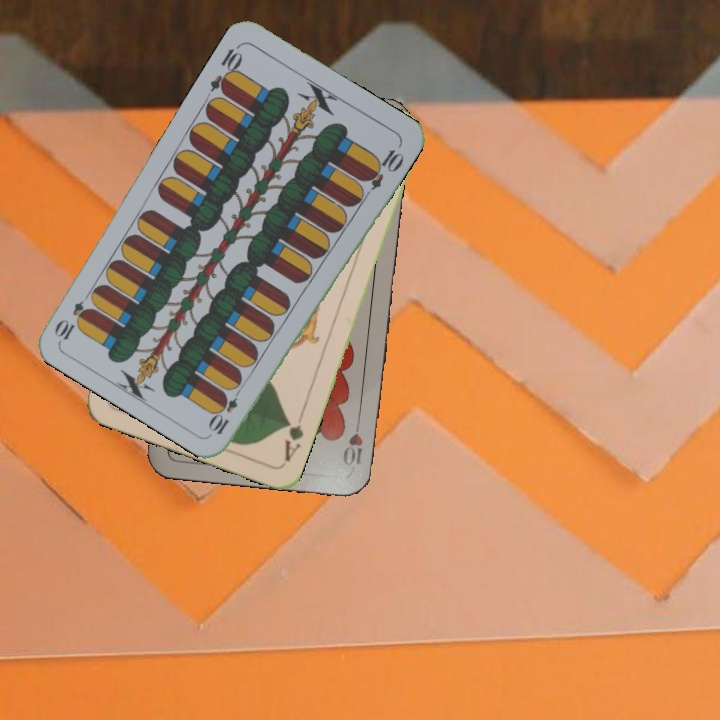E10: (206, 40, 246, 97), (206, 382, 245, 438)
GA: (280, 408, 307, 465)
H10: (340, 412, 365, 469)
